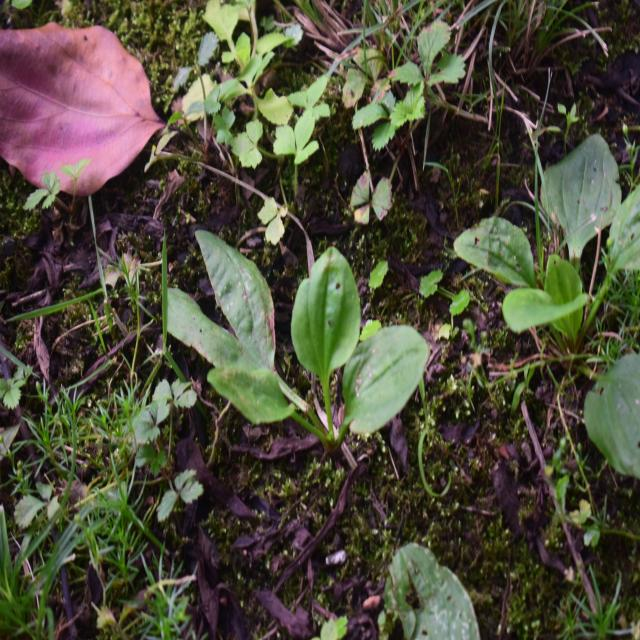plantain: (202, 257, 426, 488)
